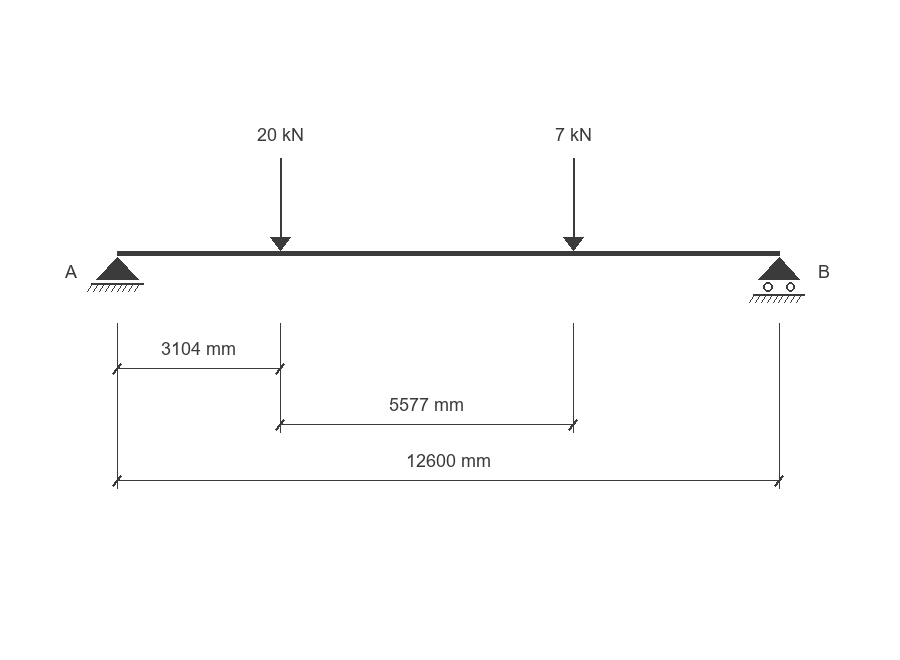pin_support: (87, 257, 144, 292)
point_load: (270, 158, 291, 251), (563, 158, 584, 251)
roller_support: (749, 257, 805, 303)
